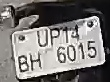0: (65, 45, 80, 65)
1: (77, 42, 87, 63), (61, 26, 70, 45)
4: (71, 24, 81, 44)
5: (86, 39, 99, 62)
6: (56, 46, 67, 65)
B: (17, 54, 30, 75)
H: (29, 52, 44, 72)
P: (49, 27, 60, 48)
U: (35, 29, 49, 50)
